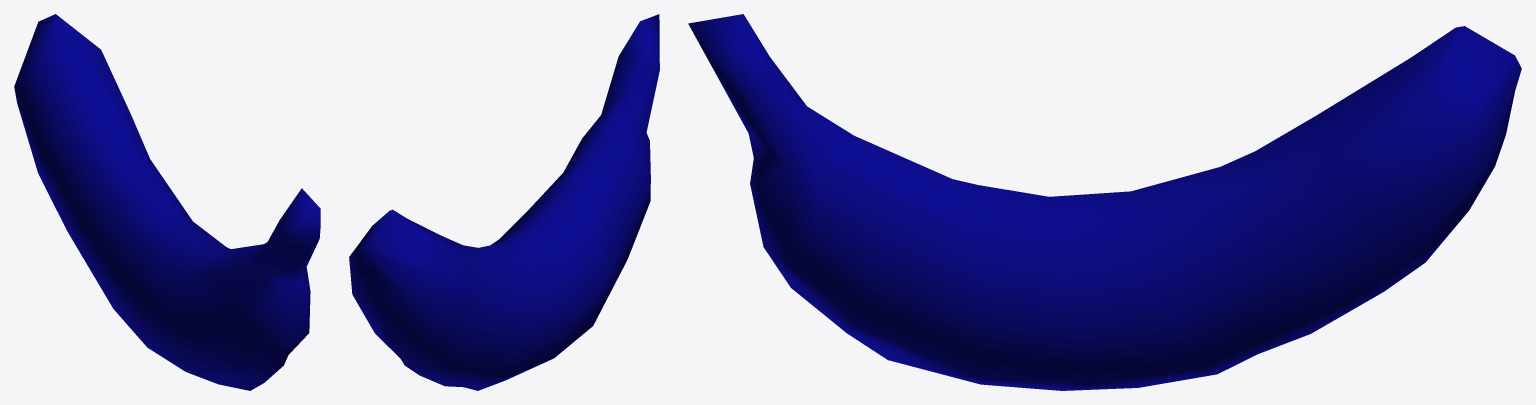
The model's file is banana1_4.dae.
The picture shows the model from 3 angles, left to right: view 1: azimuth 30°, elevation 25°; view 2: azimuth 150°, elevation 25°; view 3: azimuth 270°, elevation 25°; orthographic projection. The views are drawn at different scales.
Parts seen in each view (by area): view 1: banana1; view 2: banana1; view 3: banana1.
Part boxes in pixels (x1,y1,x2,y2): banana1: [14, 14, 320, 390]; banana1: [349, 14, 659, 390]; banana1: [688, 14, 1521, 390].
Bounding box in the file's own units: 0.0557 × 0.2948 × 0.1476.
